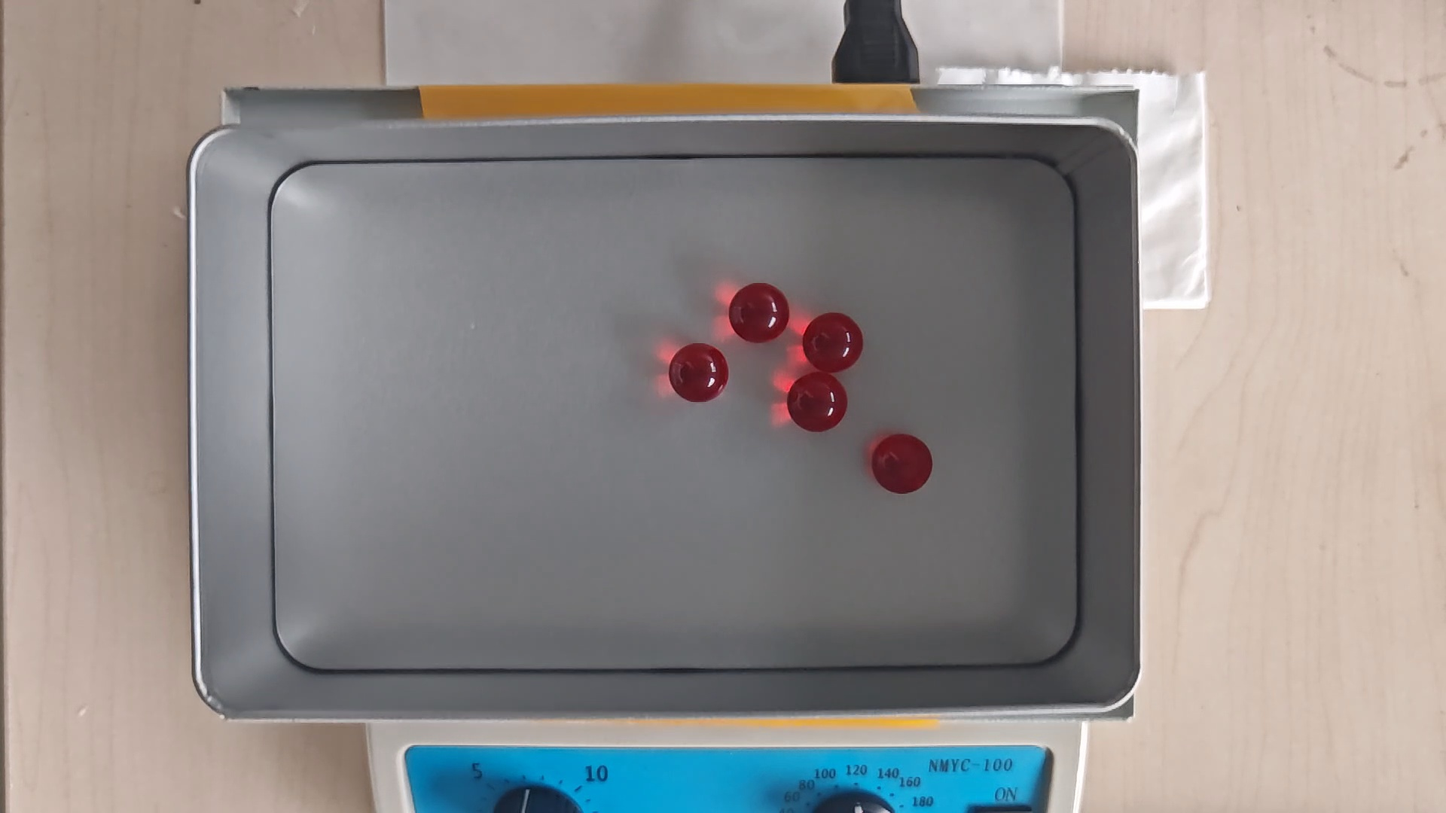ball: (871, 434, 932, 496), (732, 283, 792, 344), (669, 343, 728, 404), (806, 312, 864, 372), (791, 373, 846, 432)
container: (272, 156, 1078, 670)
